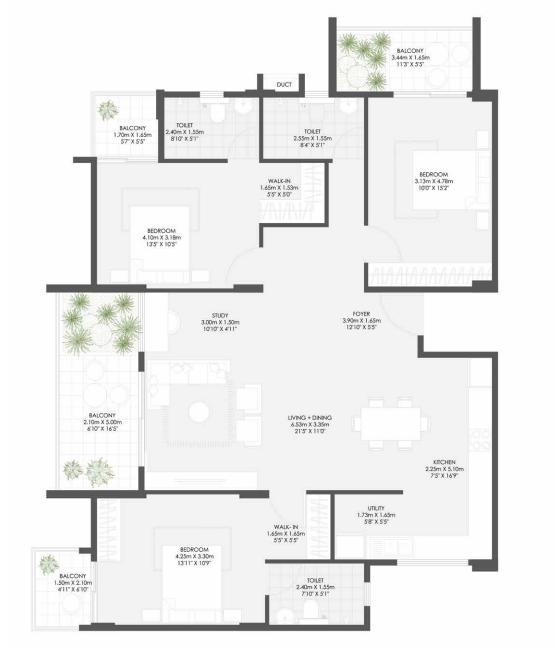Balcony: (56, 292, 141, 490), (333, 30, 476, 94), (34, 550, 95, 625), (97, 93, 158, 158)
Bed: (160, 542, 221, 626), (413, 150, 492, 209), (135, 210, 188, 286)
Bedroom: (91, 497, 266, 629), (370, 97, 492, 286), (99, 160, 259, 291), (377, 295, 422, 339), (363, 225, 406, 263)
Dining Room: (298, 363, 445, 490)
Dining table: (346, 390, 442, 462)
Foyer: (268, 296, 422, 357)
Kitchen: (410, 364, 494, 564)
Living Room: (141, 360, 295, 494)
Sofa: (235, 377, 264, 440), (146, 365, 229, 387), (146, 363, 171, 410), (189, 402, 211, 427)
Wardrobe: (370, 262, 493, 289), (306, 494, 332, 562), (94, 496, 119, 563), (300, 165, 329, 219), (256, 200, 325, 222)
commode: (303, 599, 319, 622), (210, 101, 226, 123), (308, 103, 325, 122)
door: (222, 246, 259, 291), (267, 497, 305, 531), (267, 561, 302, 597), (226, 126, 260, 158), (332, 126, 365, 158)
sink: (385, 538, 417, 561), (275, 608, 296, 627), (338, 99, 359, 116), (235, 98, 252, 114)
study: (143, 296, 263, 357)
toilet: (266, 561, 364, 625), (162, 94, 260, 157), (265, 98, 364, 158)
tv: (153, 470, 245, 490)
utility: (335, 493, 406, 561)
walkin: (268, 497, 334, 560), (260, 163, 326, 223)
